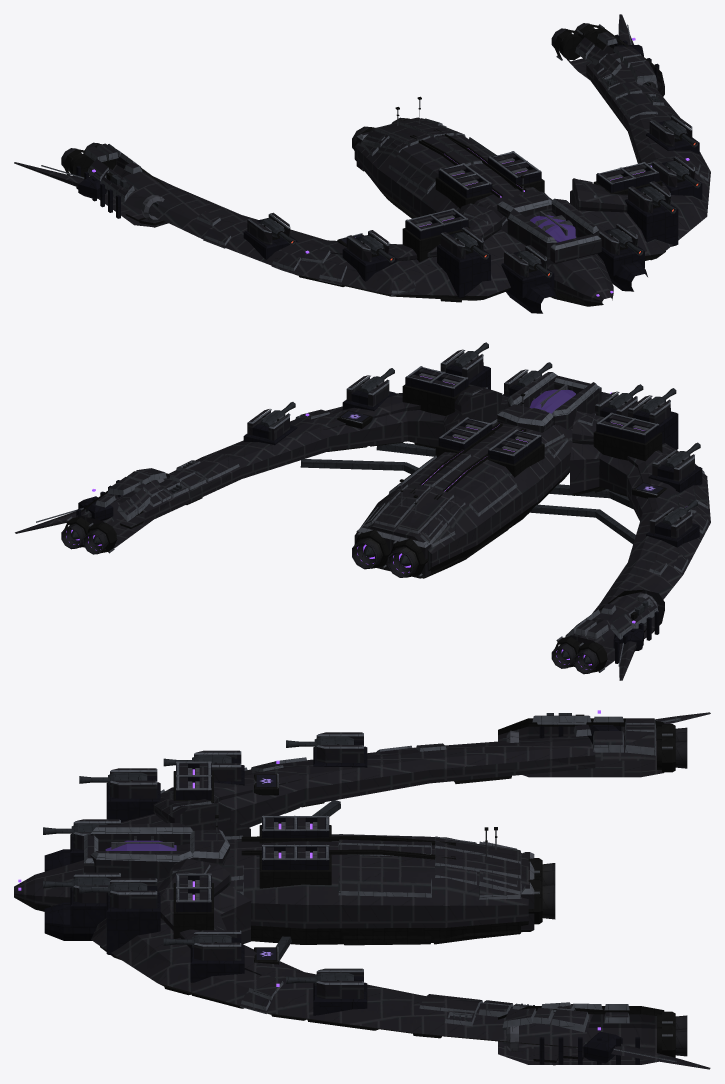
Rendered from eris-schiff5.glb.
3 renders of one model, top to bottom at view 1: azimuth 30°, elevation 25°; view 2: azimuth 150°, elevation 25°; view 3: azimuth 270°, elevation 25°, orthographic. The views are drawn at different scales.
Parts seen in each view (by area): view 1: Hull_LOD0; view 2: Hull_LOD0; view 3: Hull_LOD0.
Boxes of the visible parts, x1,y1,x2,y2 form: Hull_LOD0: [14, 14, 710, 313]; Hull_LOD0: [15, 349, 710, 680]; Hull_LOD0: [14, 710, 710, 1069].
Bounding box in the file's own units: 88.3 × 13.21 × 72.88.
6 materials, 4 textured.
